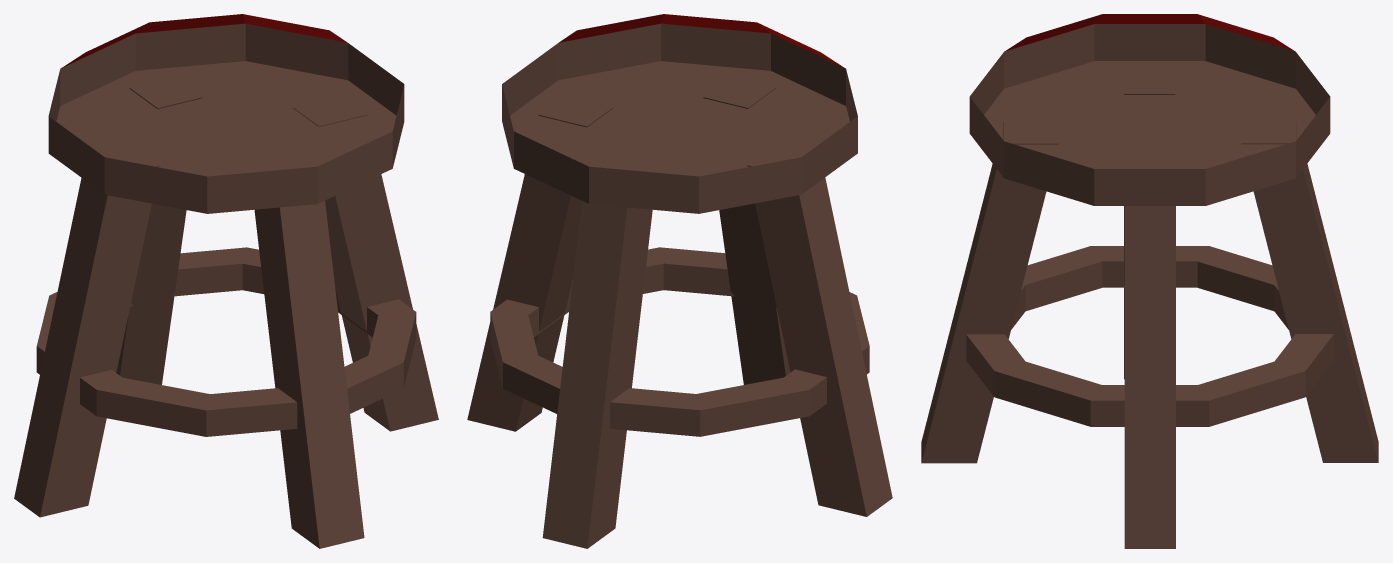
File: Chair04.glb
3 renders of one model, left to right at view 1: azimuth 30°, elevation 25°; view 2: azimuth 150°, elevation 25°; view 3: azimuth 270°, elevation 25°, orthographic.
Visible parts, largest first — view 1: Chair04; view 2: Chair04; view 3: Chair04.
Boxes of the visible parts, x1=… form: Chair04: x1=14, y1=14, x2=438, y2=548; Chair04: x1=467, y1=14, x2=892, y2=548; Chair04: x1=921, y1=14, x2=1378, y2=548.
Bounding box in the file's own units: 0.5259 × 0.4786 × 0.5259.
